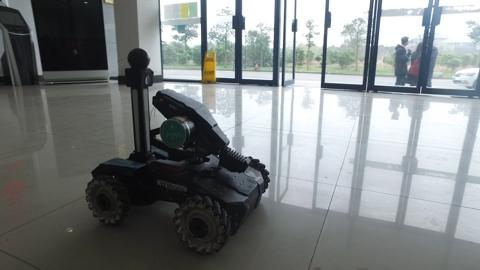chariot: (73, 45, 277, 259)
